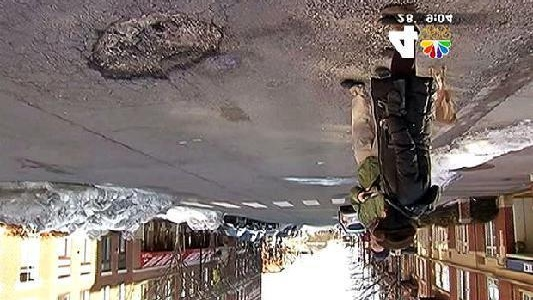pothole: (84, 13, 226, 85)
